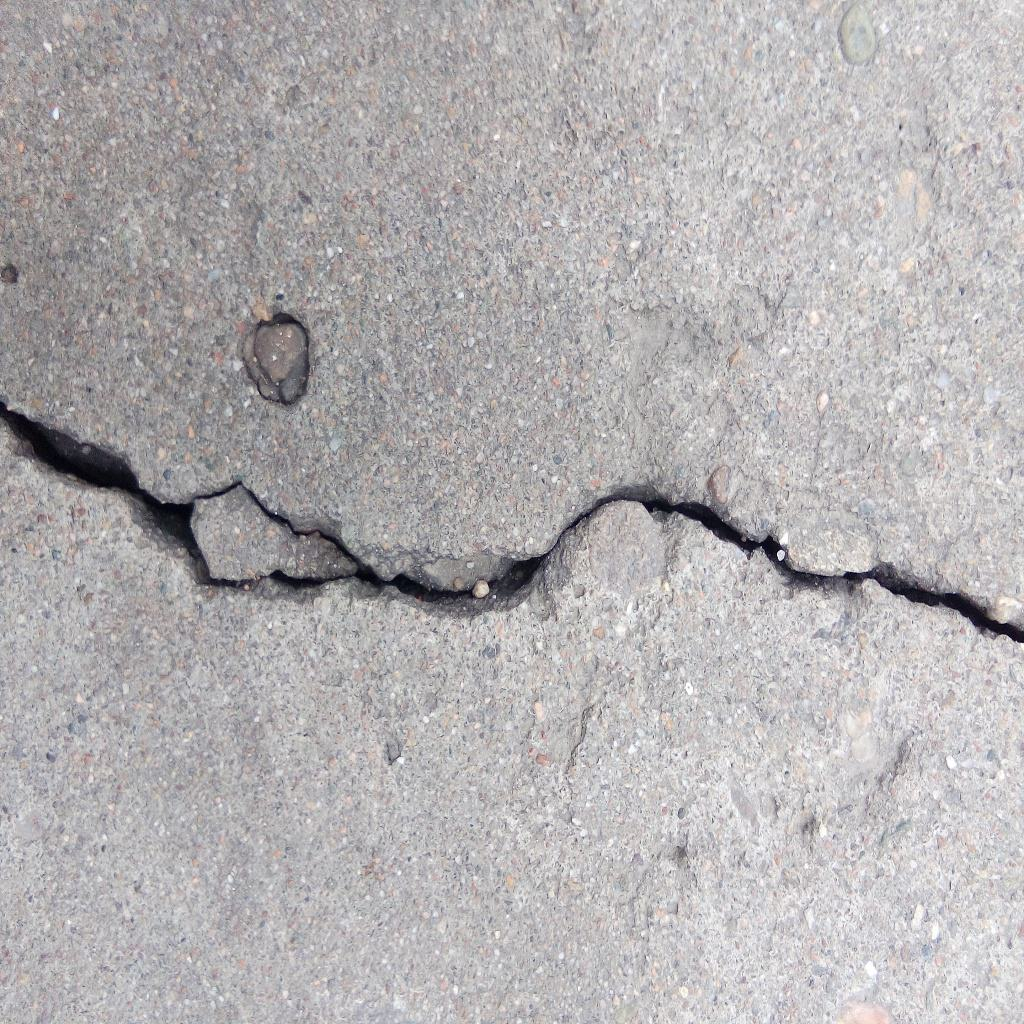Crack: (1, 401, 1024, 648)
Spalling: (235, 311, 310, 407)
